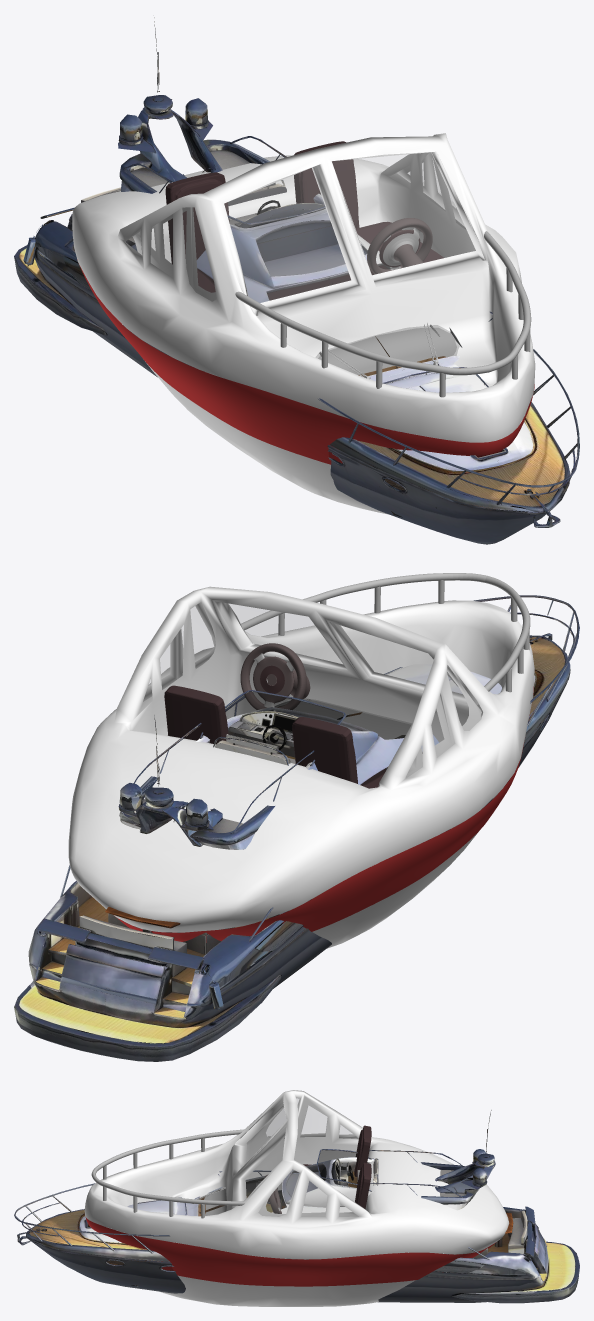
Rendered from boats.glb.
The picture shows the model from 3 angles, top to bottom: view 1: azimuth 30°, elevation 25°; view 2: azimuth 150°, elevation 25°; view 3: azimuth 270°, elevation 25°; orthographic projection. The views are drawn at different scales.
Parts seen in each view (by area): view 1: bayhop, wavecut; view 2: bayhop, wavecut; view 3: bayhop, wavecut.
Part boxes in pixels (box(x1,y1,x2,y2)): bayhop: box(72, 133, 535, 514); wavecut: box(14, 17, 579, 544); bayhop: box(68, 573, 534, 965); wavecut: box(14, 595, 579, 1061); bayhop: box(84, 1090, 509, 1306); wavecut: box(14, 1110, 579, 1303).
Size of the model in its own units: 3.02 by 2.52 by 7.2.
Materials: 20 (18 with a texture image).
